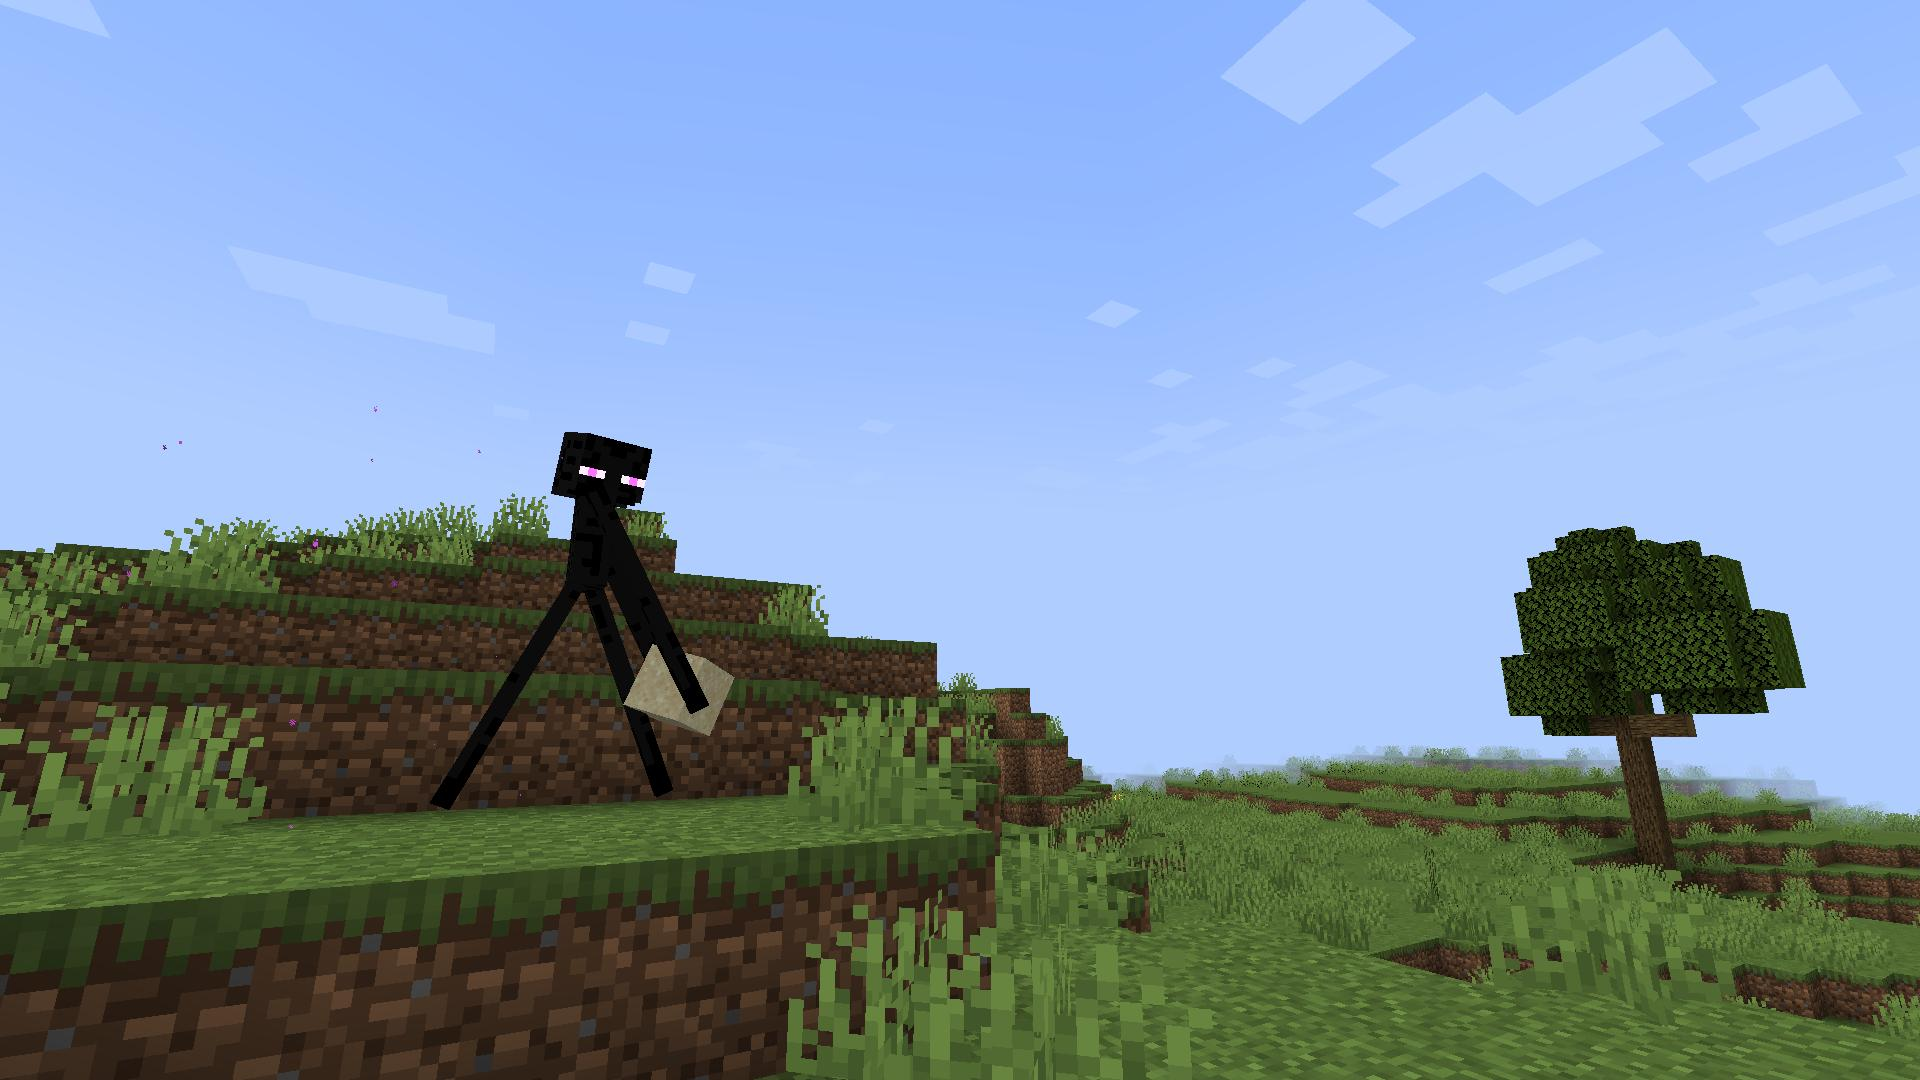enderman: (429, 422, 715, 844)
